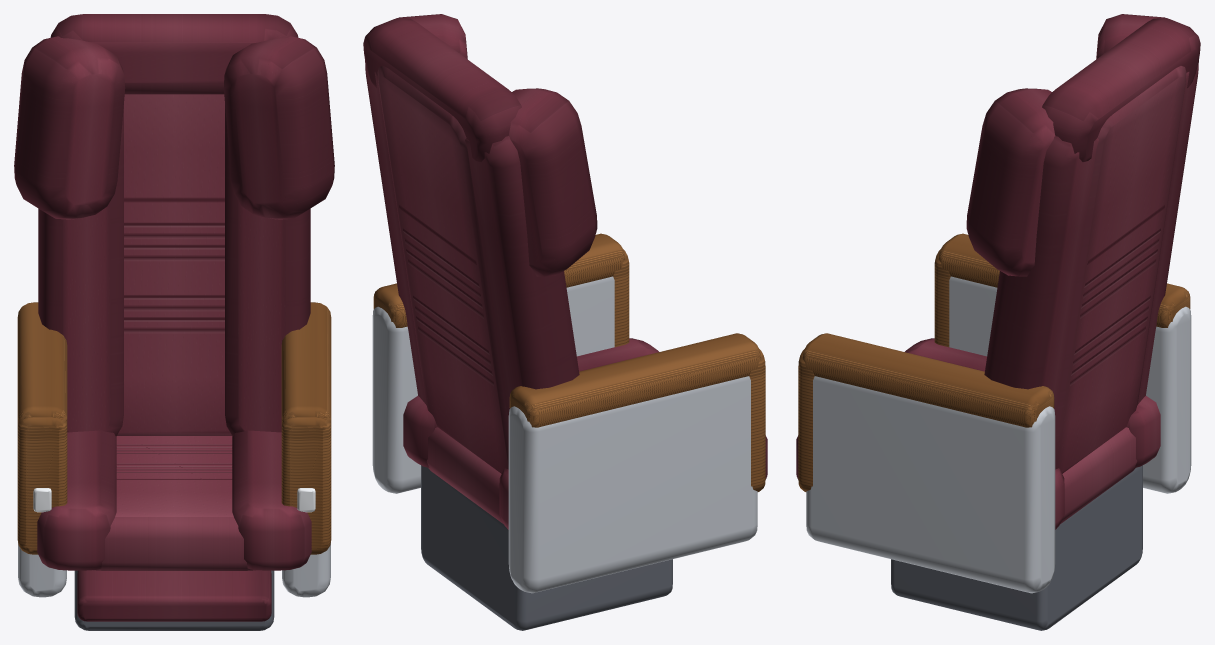
The model's file is seat_granClass.glb.
3 views of the same model, side by side, from view 1: azimuth 30°, elevation 25°; view 2: azimuth 150°, elevation 25°; view 3: azimuth 270°, elevation 25° (orthographic). The views are drawn at different scales.
Visible parts, largest first — view 1: seat_granClass; view 2: seat_granClass; view 3: seat_granClass.
Boxes of the visible parts, x1,y1,x2,y2 form: seat_granClass: (14, 14, 334, 630); seat_granClass: (363, 14, 767, 630); seat_granClass: (796, 14, 1200, 630).
Bounding box in the file's own units: 0.7776 × 1.15 × 0.7668.
7 materials, 3 textured.
